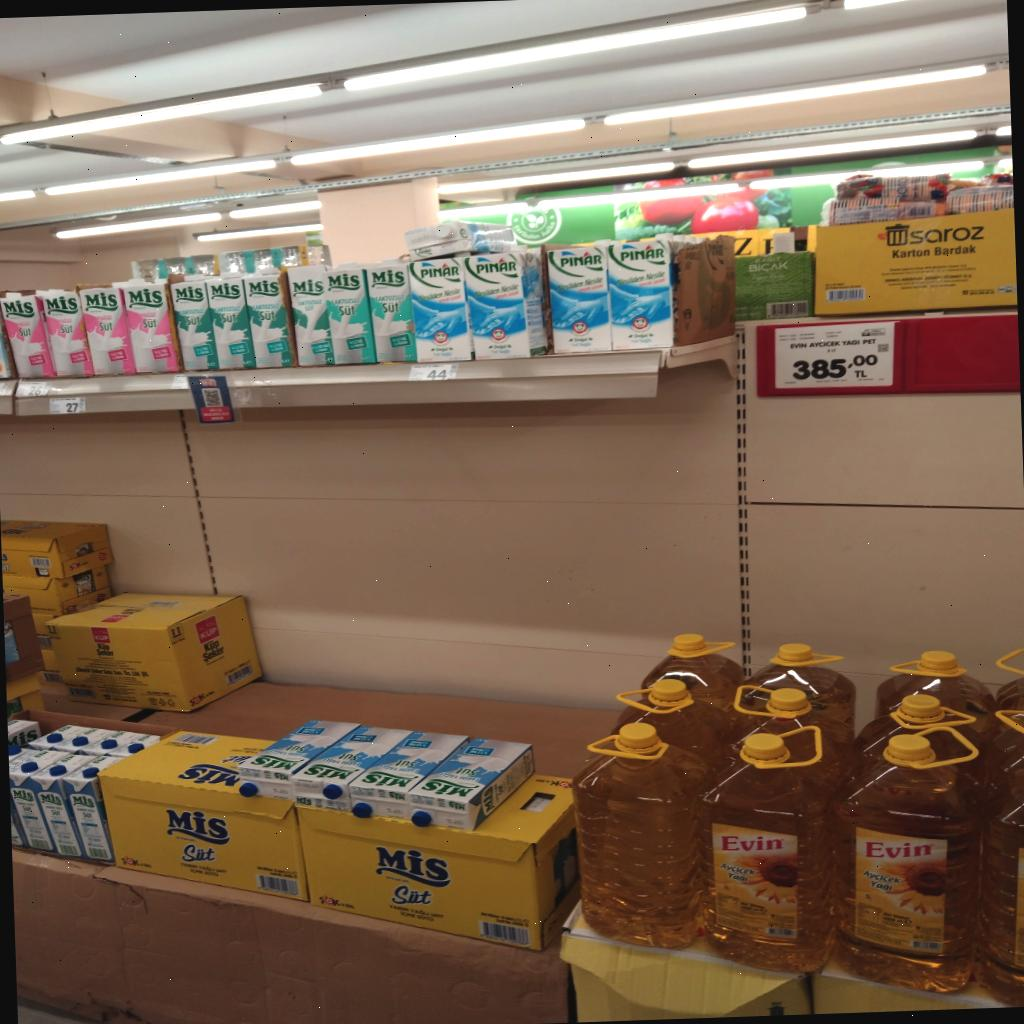price_tag: (410, 363, 458, 381), (48, 396, 86, 414), (17, 380, 50, 398), (0, 380, 17, 396), (171, 374, 189, 389)
product: (403, 737, 533, 829), (350, 731, 467, 816), (291, 725, 409, 809), (238, 720, 359, 799), (463, 251, 545, 358), (601, 239, 673, 349), (544, 246, 611, 353), (24, 750, 89, 857), (408, 257, 473, 362), (115, 280, 181, 372), (63, 756, 115, 862), (78, 285, 136, 375), (366, 259, 416, 362), (36, 289, 95, 376), (242, 269, 294, 367), (324, 265, 375, 363), (0, 291, 57, 378), (286, 264, 334, 366), (169, 276, 219, 370), (206, 274, 254, 368), (9, 787, 53, 851)
